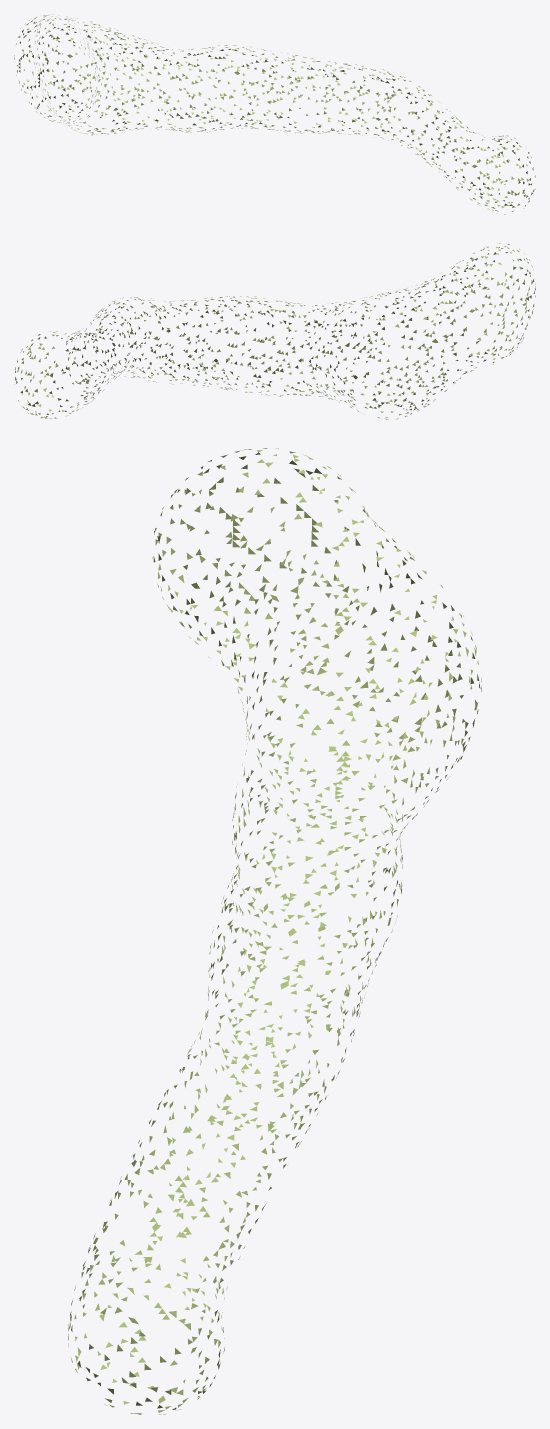
File: morph_011.glb
The picture shows the model from 3 angles, top to bottom: view 1: azimuth 30°, elevation 25°; view 2: azimuth 150°, elevation 25°; view 3: azimuth 270°, elevation 25°; orthographic projection. The views are drawn at different scales.
Size of the model in its own units: 101 by 56.59 by 38.91.
